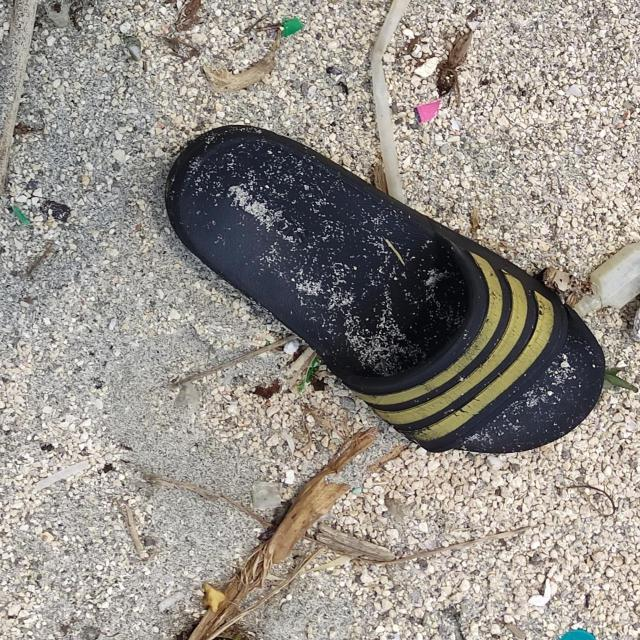plastic_waste: (369, 0, 438, 205)
rubber_waste: (162, 126, 604, 457)
